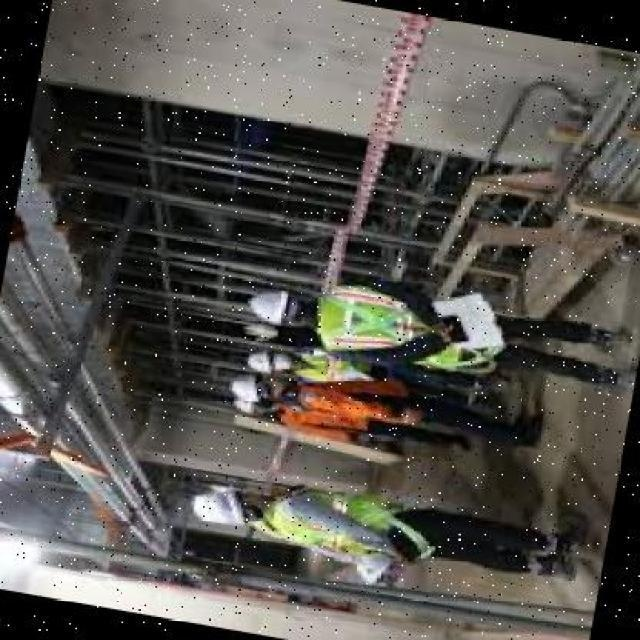Arnes_seguridad: (310, 276, 513, 372), (270, 477, 444, 571), (292, 343, 346, 386)
